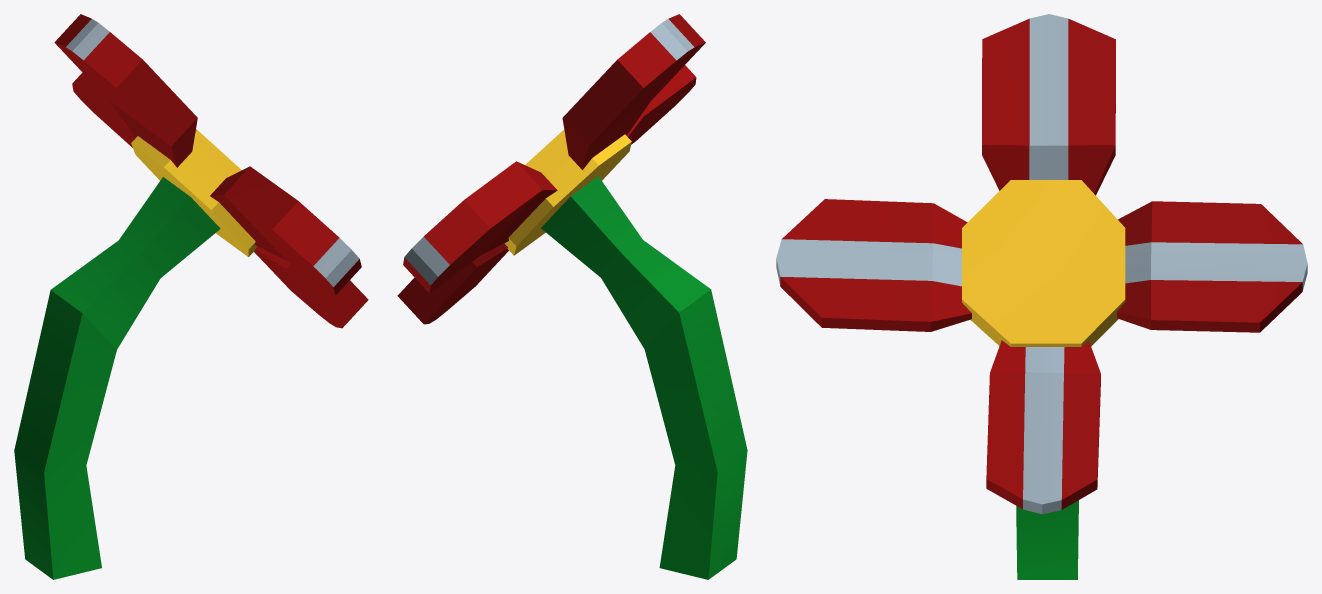
File: FLORESRECOGER5.fbx
The picture shows the model from 3 angles, left to right: view 1: azimuth 30°, elevation 25°; view 2: azimuth 150°, elevation 25°; view 3: azimuth 270°, elevation 25°; orthographic projection. The views are drawn at different scales.
Visible parts, largest first — view 1: Cube.001; view 2: Cube.001; view 3: Cube.001.
Boxes of the visible parts, x1=… form: Cube.001: x1=14, y1=14, x2=368, y2=579; Cube.001: x1=397, y1=14, x2=747, y2=579; Cube.001: x1=776, y1=14, x2=1307, y2=579.
Size of the model in its own units: 1330 by 2083 by 1754.
